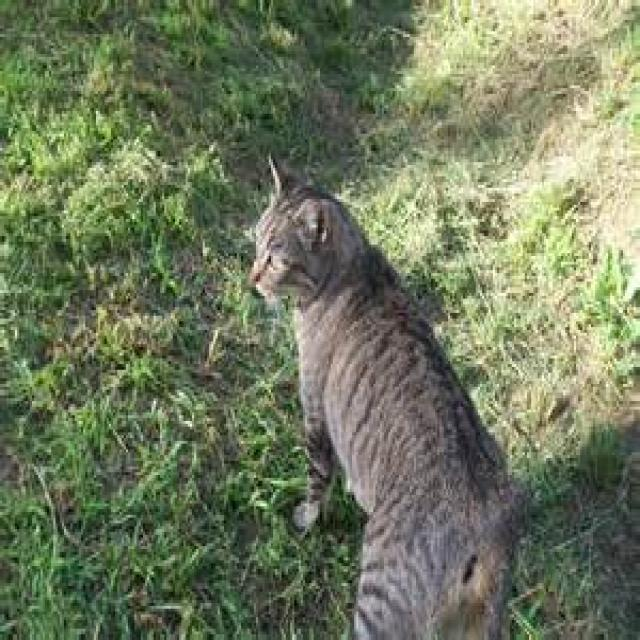animal: (247, 151, 527, 637)
